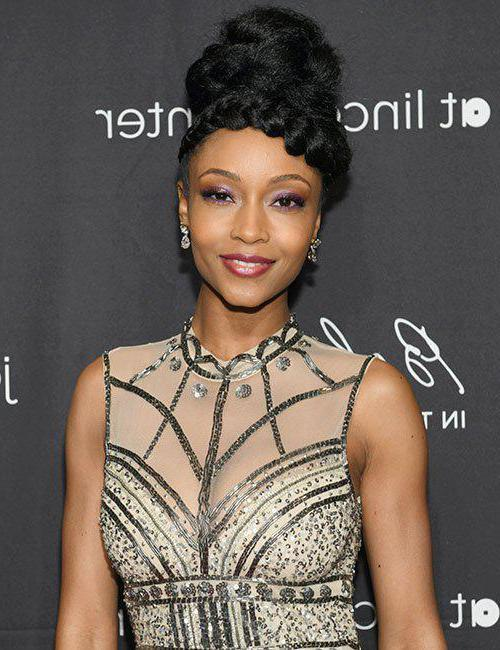Sober: (191, 125, 314, 302)
